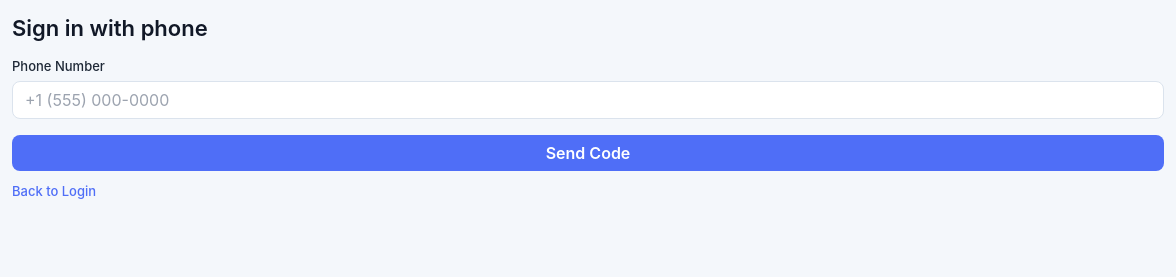
Scenario: PhoneLoginForm › OTP verification form › strips non-digit characters from OTP input
The image size is (1176, 277).
Submit the text "Sign in with phone"
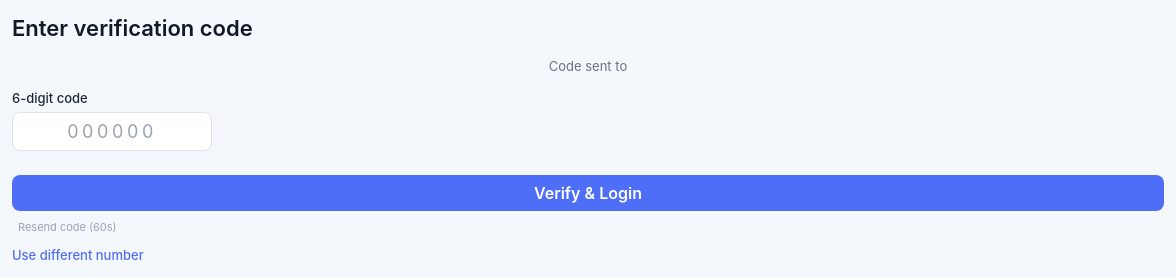
expect the field labelled "6-digit code" is shown: met
Type "abc123" into the field labelled "6-digit code" at {"x": 112, "y": 132}, box [12, 112, 212, 151]
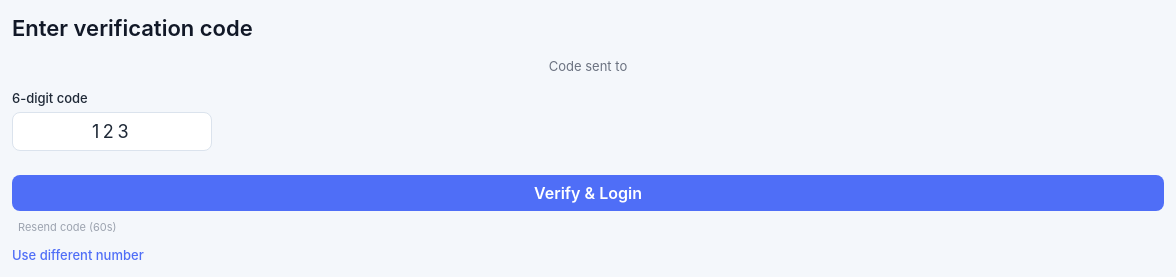
expect the field labelled "6-digit code" holds "123": met, box [12, 112, 212, 151]
